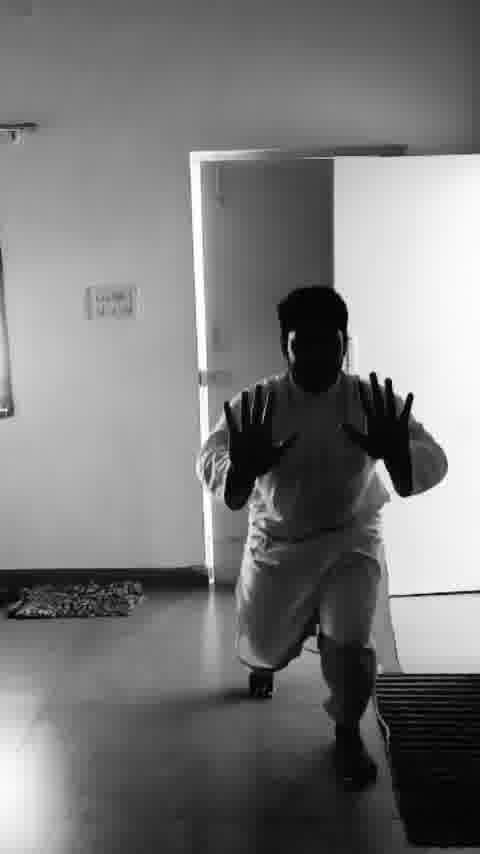duck: (195, 268, 448, 804)
